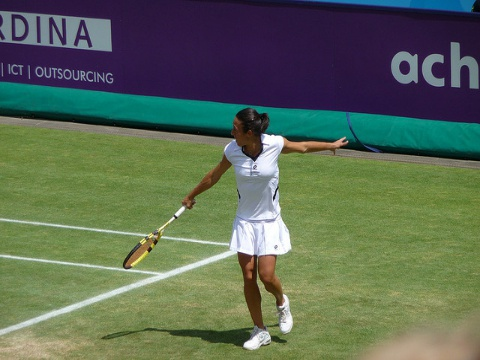hand: (329, 135, 350, 156), (181, 194, 197, 211)
